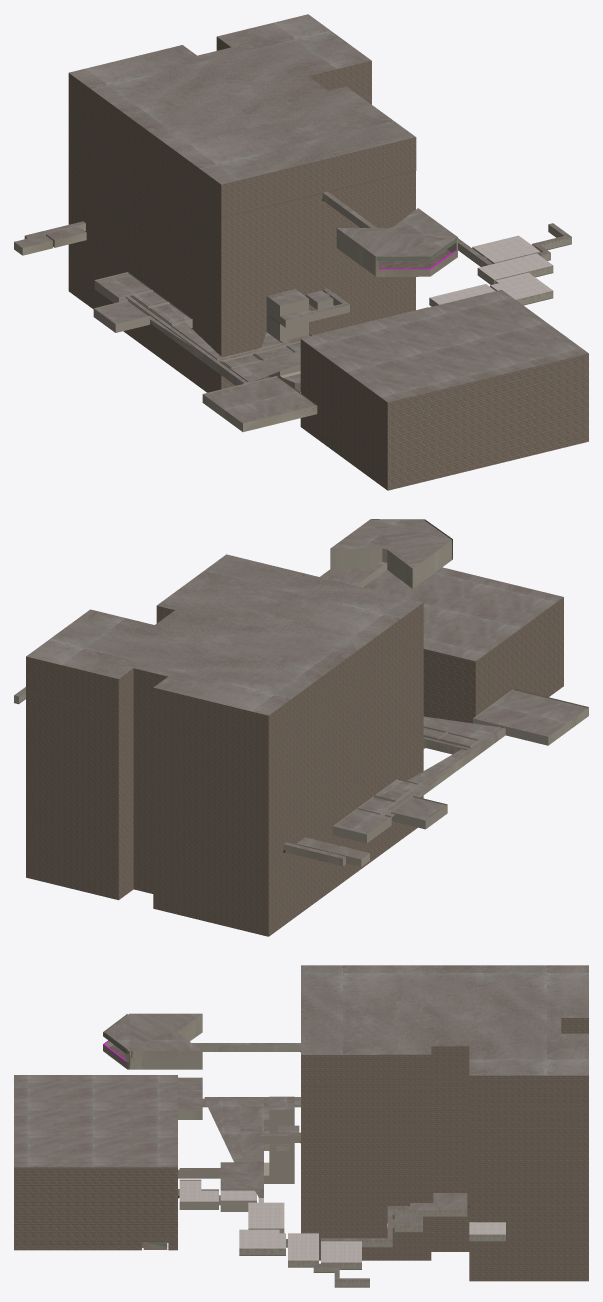
File: map_layout.fbx
3 renders of one model, top to bottom at view 1: azimuth 30°, elevation 25°; view 2: azimuth 150°, elevation 25°; view 3: azimuth 270°, elevation 25°, orthographic. The views are drawn at different scales.
Parts seen in each view (by area): view 1: wallBig, ceiling, wall; view 2: wallBig, ceiling, wall; view 3: wallBig, ceiling, wall.
Part boxes in pixels (x1=…): wallBig: x1=68, y1=37, x2=588, y2=490; ceiling: x1=14, y1=14, x2=588, y2=423; wall: x1=14, y1=193, x2=571, y2=431; wallBig: x1=26, y1=597, x2=563, y2=936; ceiling: x1=14, y1=519, x2=587, y2=859; wall: x1=14, y1=519, x2=588, y2=866; wallBig: x1=14, y1=1018, x2=588, y2=1281; ceiling: x1=14, y1=965, x2=588, y2=1280; wall: x1=103, y1=1014, x2=505, y2=1287.
Bounding box in the file's own units: 18202 × 8615 × 21828.
